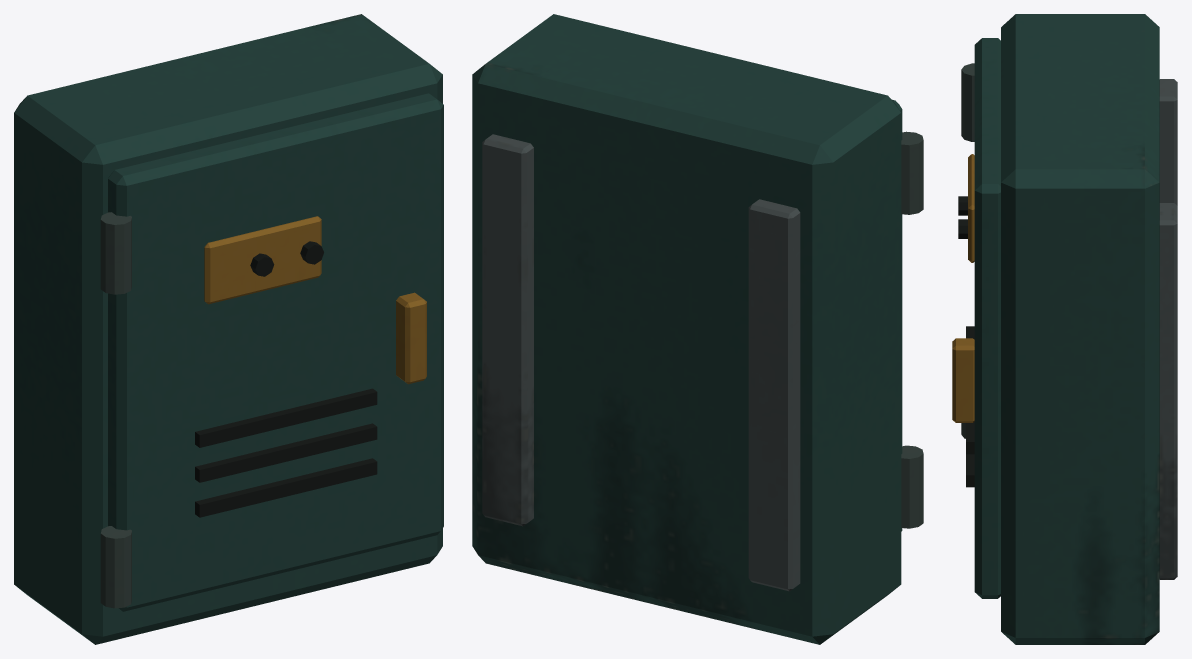
File: electrical_box.glb
3 views of the same model, side by side, from view 1: azimuth 30°, elevation 25°; view 2: azimuth 150°, elevation 25°; view 3: azimuth 270°, elevation 25° (orthographic). The views are drawn at different scales.
Parts seen in each view (by area): view 1: electrical_box; view 2: electrical_box; view 3: electrical_box.
Part boxes in pixels (x1,y1,x2,y2): electrical_box: (14,14,443,644); electrical_box: (472,14,923,644); electrical_box: (952,14,1177,644).
Size of the model in its own units: 0.65 by 0.89 by 0.3695.
1 material, 1 textured.
